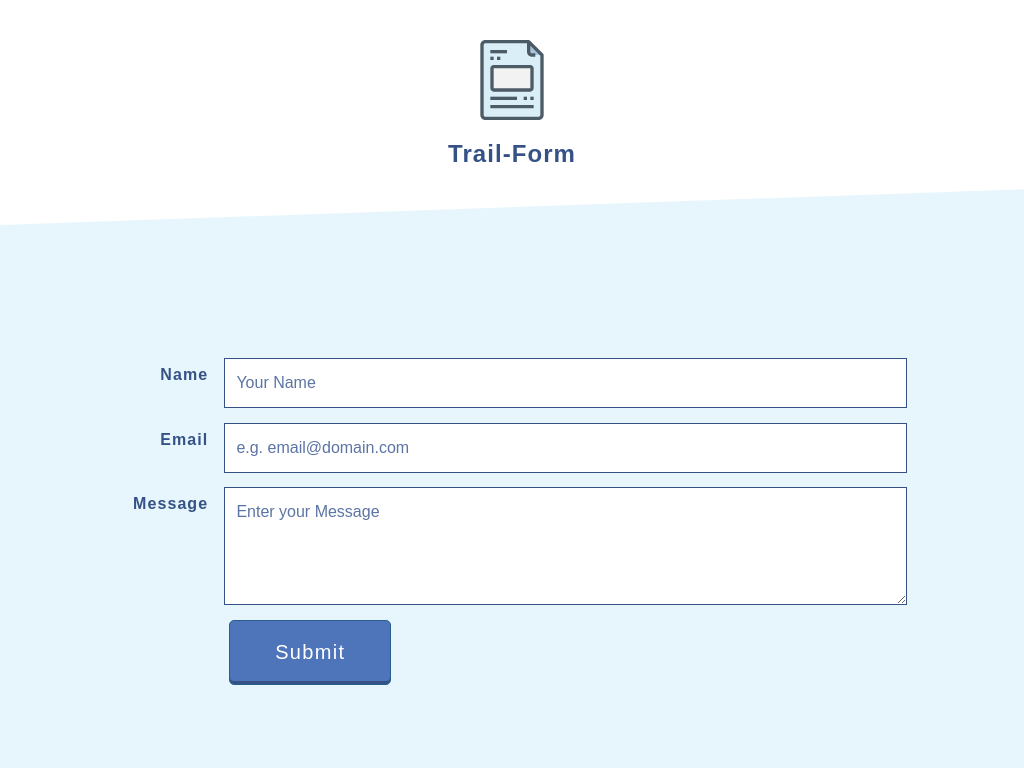
Test: Form Input › Doesn't Submit with out Email
The width and height of the screenshot is (1024, 768).
Type "John Doe" into the field with placeholder "Your Name" at (566, 383), box 224,358 -> 907,408
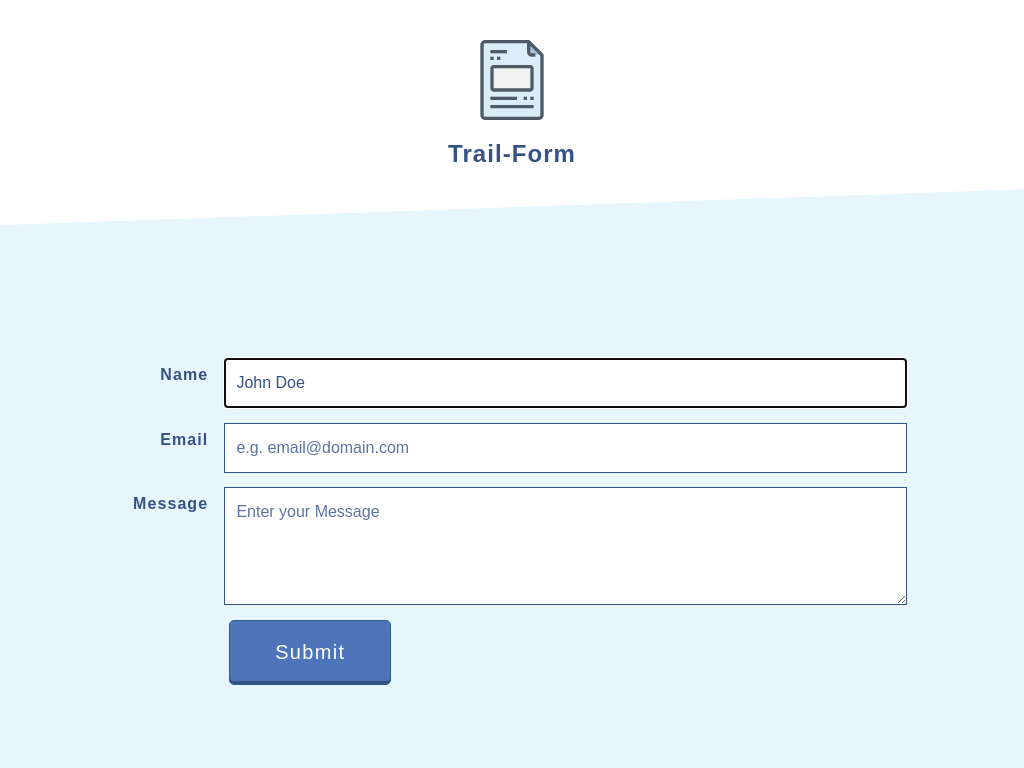
Type "Hello from John Doe!" into the text box with placeholder "Enter your Message" at (566, 546), box 224,487 -> 907,605
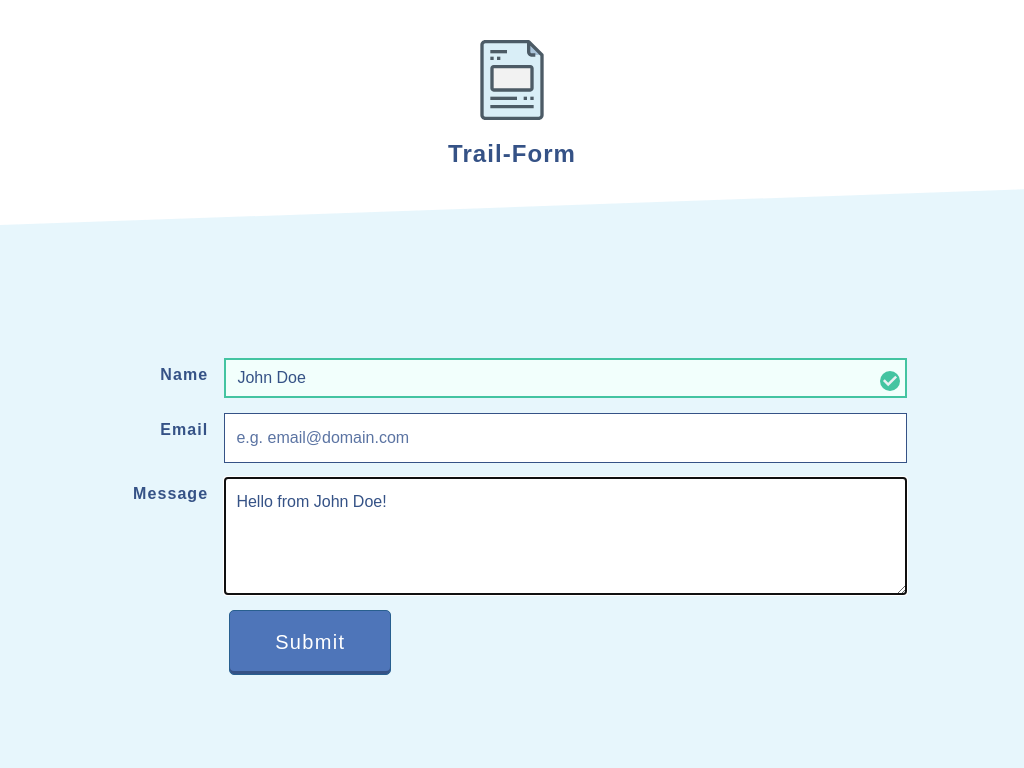
Click the button "Submit" at (310, 643), box 229,610 -> 391,675
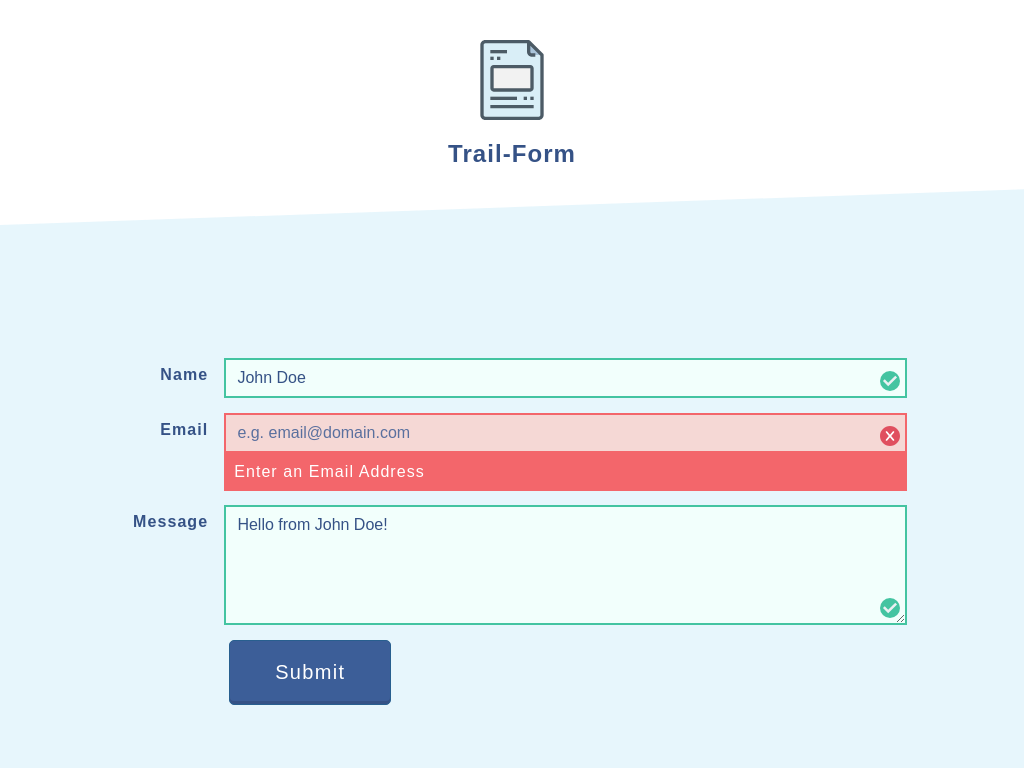
expect the number of elements with class "invalid" is 1: met, box 117,408 -> 907,491
expect the text with class "error-msg" reads "Enter an Email Address": met, box 224,453 -> 907,491
